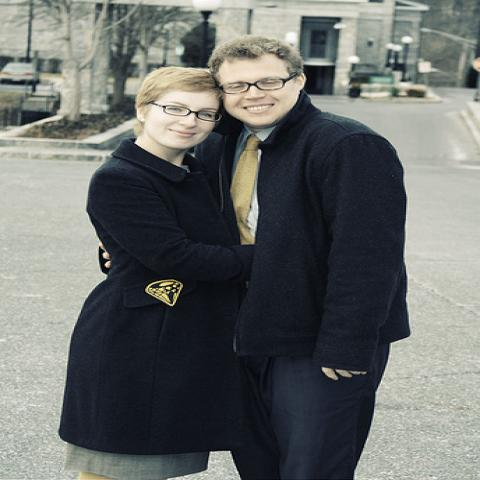car: (1, 62, 37, 83)
